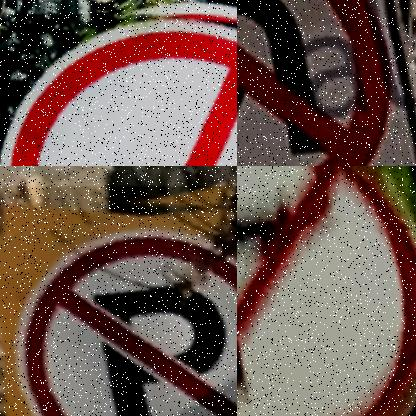No Horns: (0, 15, 237, 166)
No Parking: (0, 186, 237, 416)
No U-Turn: (237, 0, 416, 166)
No right turn: (237, 166, 416, 416)
